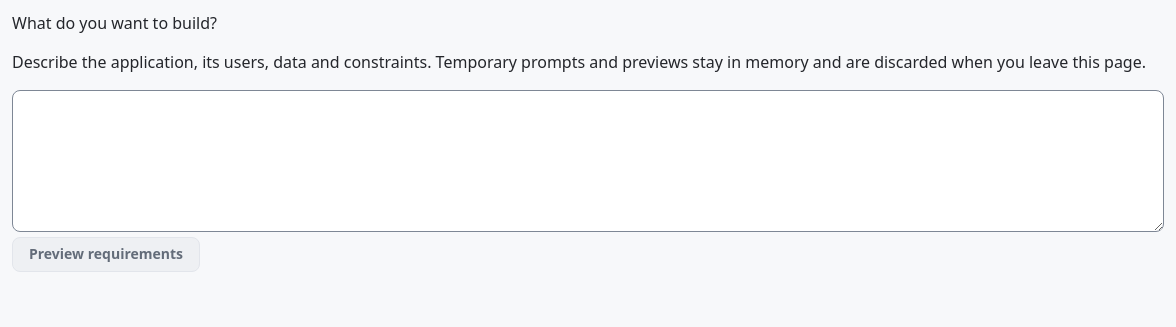
Test: mounted requirements preview › aborts the request on cancel without retrying
Type "A small synthetic notes API." into the text box labelled "What do you want to build?" at coordinates (588, 161), box top-left (12, 90), bottom-right (1164, 232)
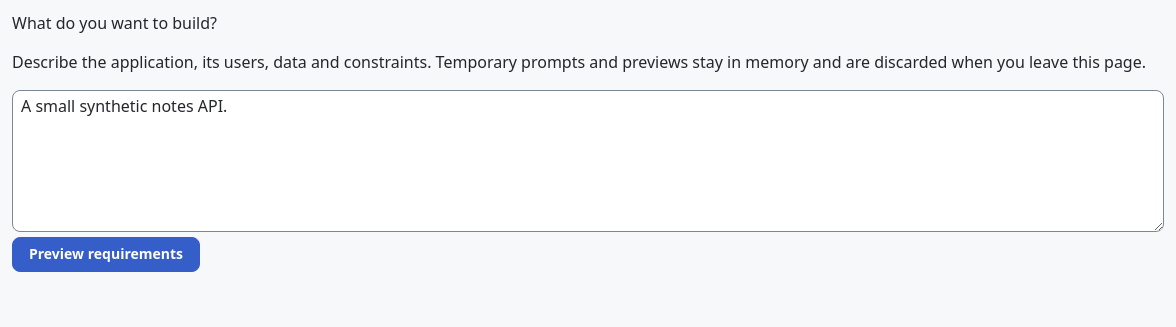
Click the button "Preview requirements" at coordinates (106, 254), box top-left (12, 237), bottom-right (200, 272)
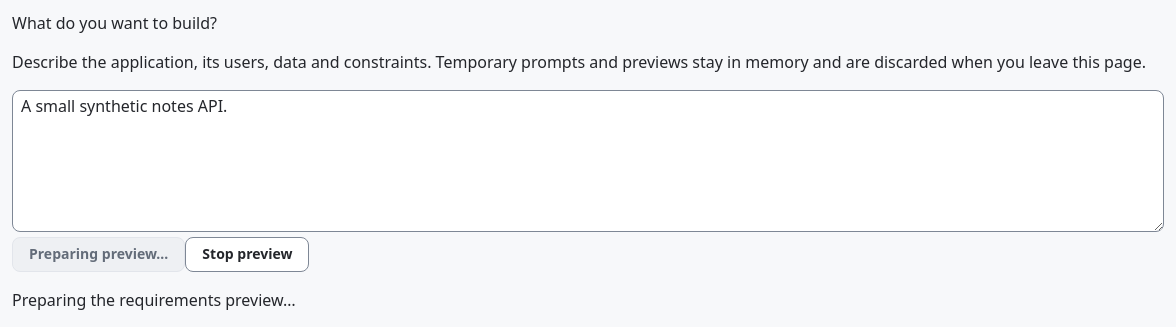
Click the button "Stop preview" at coordinates (247, 254), box top-left (185, 237), bottom-right (309, 272)
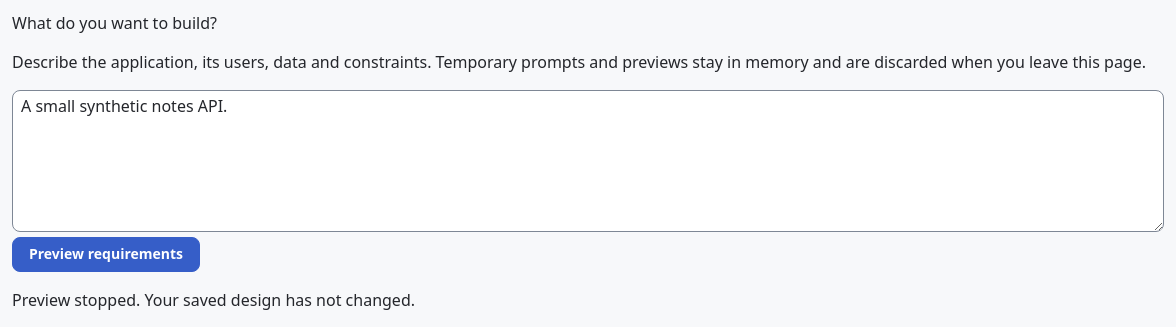
Expected: the message shows "Preview stopped", top-left (12, 289), bottom-right (415, 311)
